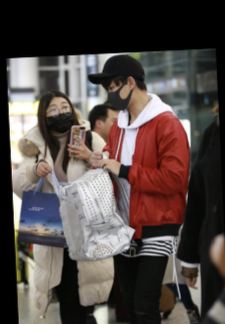with_mask: (44, 100, 75, 134), (105, 84, 128, 113)
